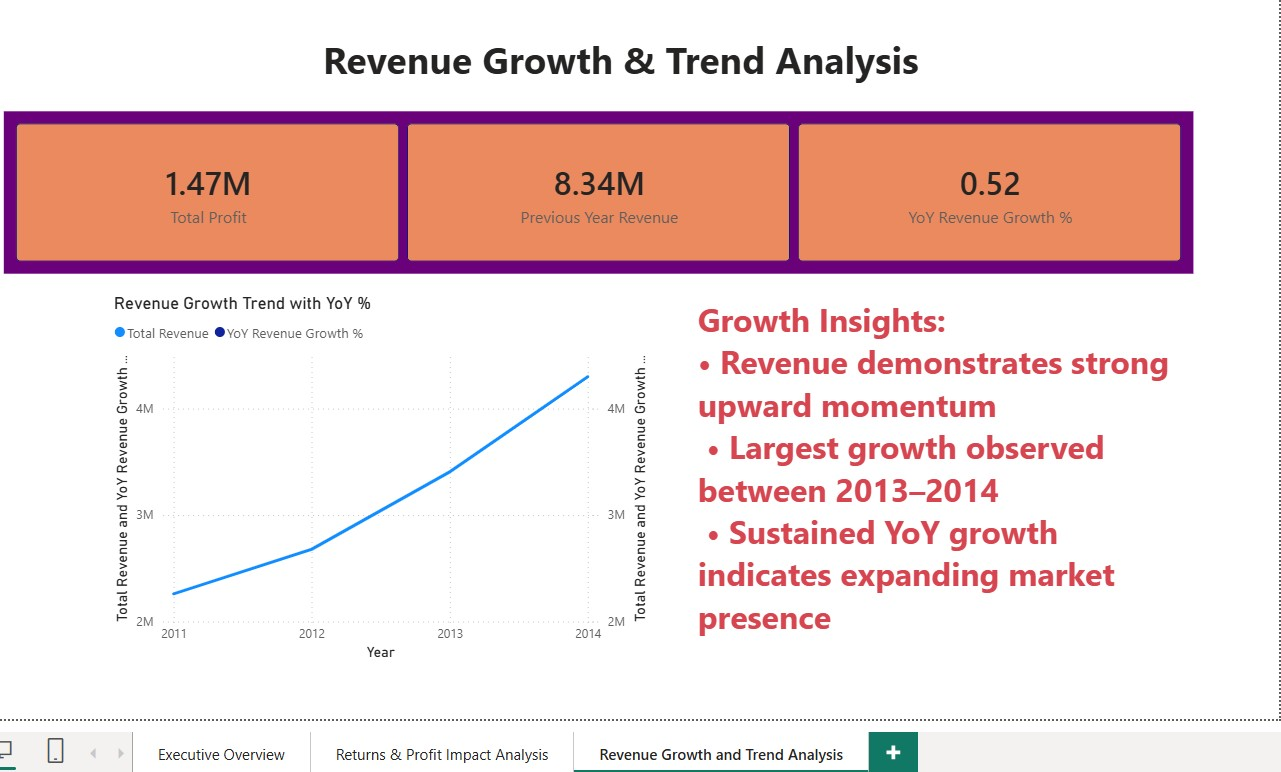

The page's visual inventory and layout, read from the dashboard file:
{"tool":"powerbi","page":{"name":"Revenue Growth and Trend Analysis","canvas":[1280,720],"ordinal":2},"visuals":[{"type":"lineChart","title":"Revenue Growth Trend with YoY %","fields":{"Category":["Orders.Order_Date.Variation.Date Hierarchy.Year"],"Y":["Orders.Total Revenue"],"Y2":["Orders.YoY Revenue Growth %"]},"box":[110,293.8,543.8,372.5],"z":0},{"type":"cardVisual","fields":{"Data":["Orders.Total Profit","Orders.Previous Year Revenue","Orders.YoY Revenue Growth %"]},"box":[0,107.5,1200,172.5],"z":1},{"type":"textbox","box":[693.8,293.8,506.2,373.8],"z":2},{"type":"textbox","box":[232.5,30,778.8,77.5],"z":3}]}

Visuals, with their boxes on the page's 1280x720 design canvas (x1, y1, x2, y2). These are canvas units, not pixel positions in the 1281x772 screenshot, which may show the page scaled, cropped or inside an application window:
"Revenue Growth Trend with YoY %" lineChart: left=110, top=294, right=654, bottom=666
cardVisual - Orders.Total Profit x Orders.Previous Year Revenue: left=0, top=108, right=1200, bottom=280
textbox: left=694, top=294, right=1200, bottom=668
textbox: left=232, top=30, right=1011, bottom=108
